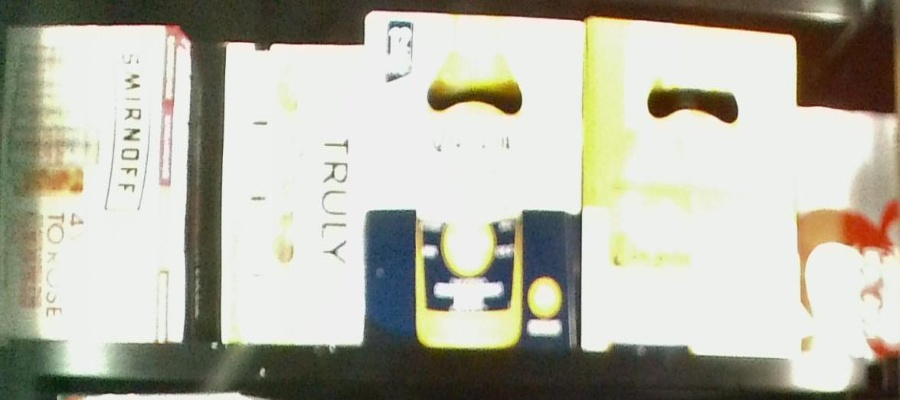bottle: (588, 14, 795, 358), (367, 14, 578, 351), (1, 25, 189, 338), (218, 42, 367, 350), (799, 103, 900, 359)
